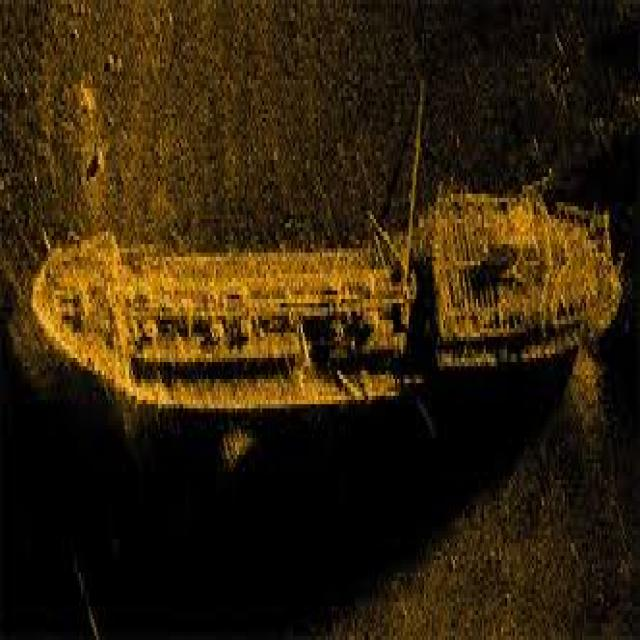ship: (25, 172, 623, 412)
